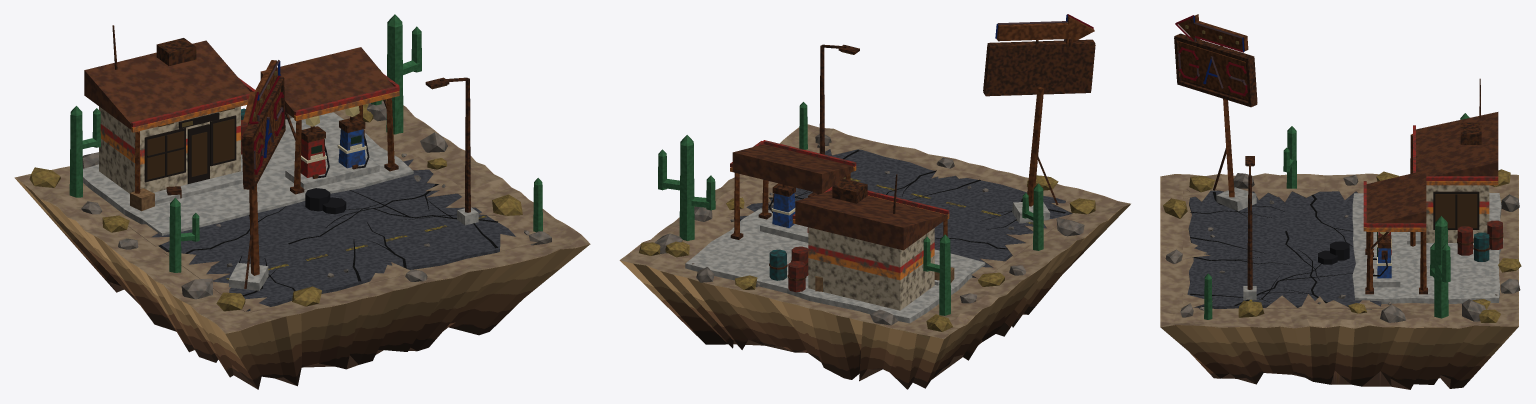
File: posto_retro.glb
The picture shows the model from 3 angles, left to right: view 1: azimuth 30°, elevation 25°; view 2: azimuth 150°, elevation 25°; view 3: azimuth 270°, elevation 25°; orthographic projection. The views are drawn at different scales.
Parts seen in each view (by area): view 1: Terrain_Block, Asphalt_Concrete, Gas_Station, Desert_Props, Gas_Sign, Gas_Pumps, Street_Lamp; view 2: Terrain_Block, Asphalt_Concrete, Gas_Station, Desert_Props, Gas_Sign, Gas_Pumps, Street_Lamp; view 3: Terrain_Block, Asphalt_Concrete, Gas_Station, Desert_Props, Gas_Sign, Street_Lamp, Gas_Pumps.
Part boxes in pixels (bbox=[...]): Terrain_Block: bbox=[14, 105, 590, 389]; Asphalt_Concrete: bbox=[83, 112, 537, 312]; Gas_Station: bbox=[84, 25, 399, 194]; Desert_Props: bbox=[29, 14, 551, 311]; Gas_Sign: bbox=[228, 60, 285, 290]; Gas_Pumps: bbox=[300, 106, 369, 178]; Street_Lamp: bbox=[425, 77, 478, 225]; Terrain_Block: bbox=[619, 124, 1130, 389]; Asphalt_Concrete: bbox=[685, 139, 1075, 323]; Gas_Station: bbox=[730, 140, 949, 310]; Desert_Props: bbox=[639, 102, 1095, 331]; Gas_Sign: bbox=[983, 14, 1095, 223]; Gas_Pumps: bbox=[768, 183, 820, 232]; Street_Lamp: bbox=[819, 44, 859, 154]; Terrain_Block: bbox=[1160, 173, 1518, 389]; Asphalt_Concrete: bbox=[1183, 188, 1503, 309]; Gas_Station: bbox=[1363, 78, 1498, 294]; Desert_Props: bbox=[1163, 113, 1521, 322]; Gas_Sign: bbox=[1174, 14, 1257, 210]; Street_Lamp: bbox=[1243, 156, 1256, 299]; Gas_Pumps: bbox=[1373, 232, 1391, 278].
Size of the model in its own units: 12 by 9.98 by 12.08.
42 materials, 42 textured.
